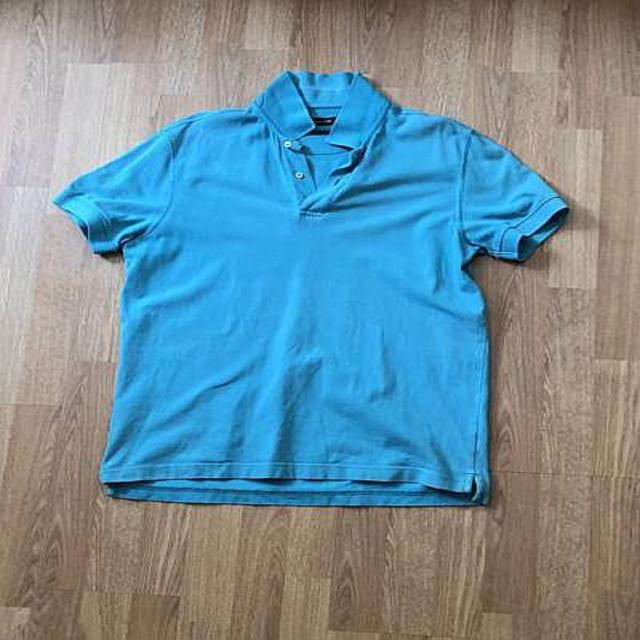T_SHIRT: (28, 60, 580, 518)
